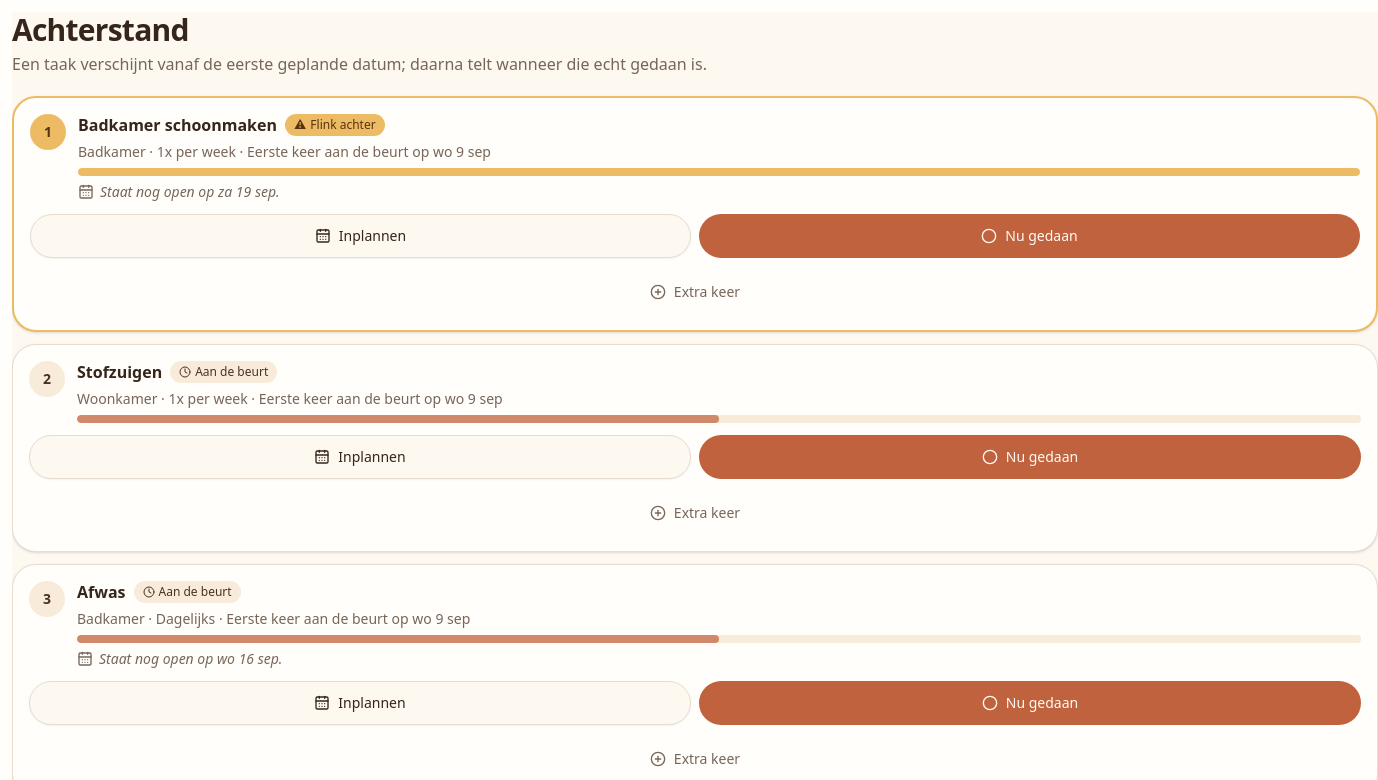
DuePage › plans a task on a chosen day and person
Click the button with aria-label "Stofzuigen inplannen" at (360, 457), box top-left (29, 435), bottom-right (691, 479)
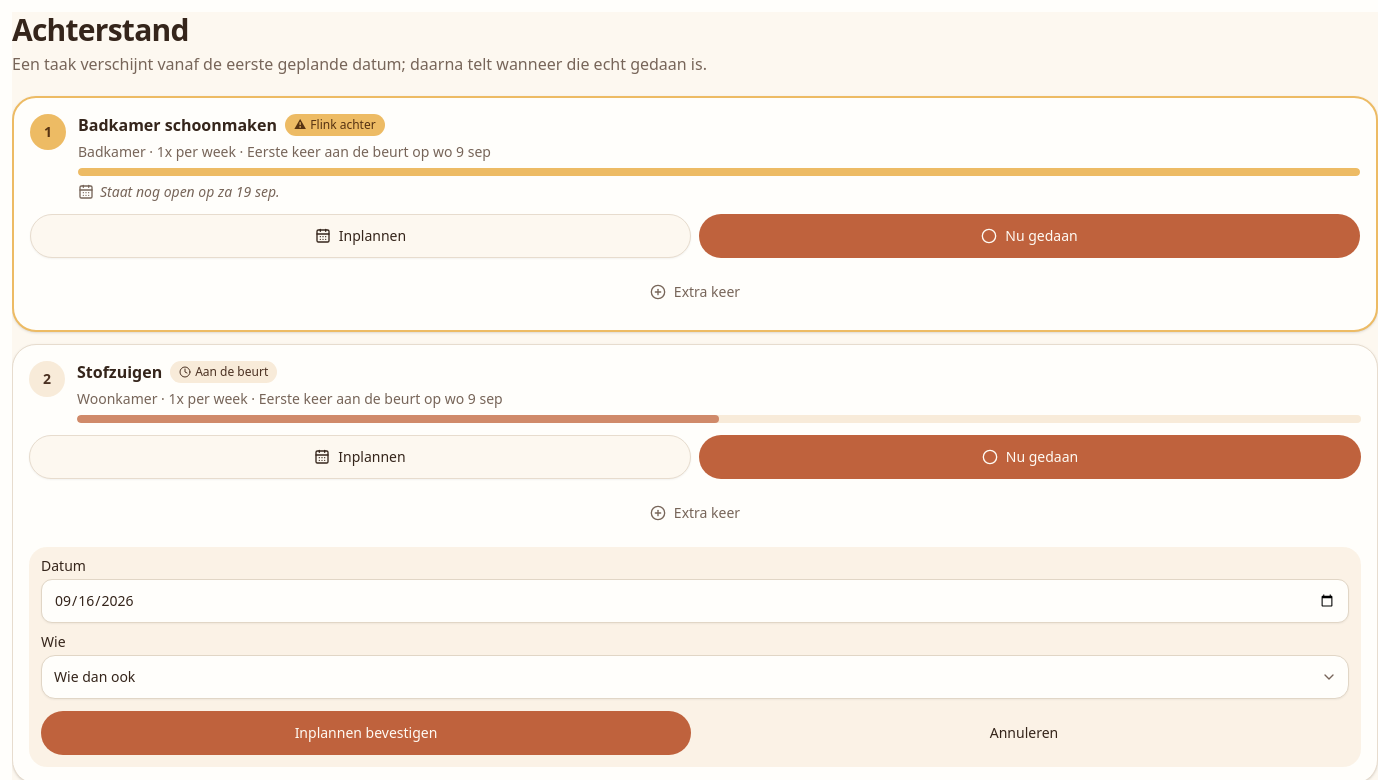
Type "2026-09-20" into the date field labelled "Datum" at (695, 601), box top-left (41, 579), bottom-right (1349, 623)
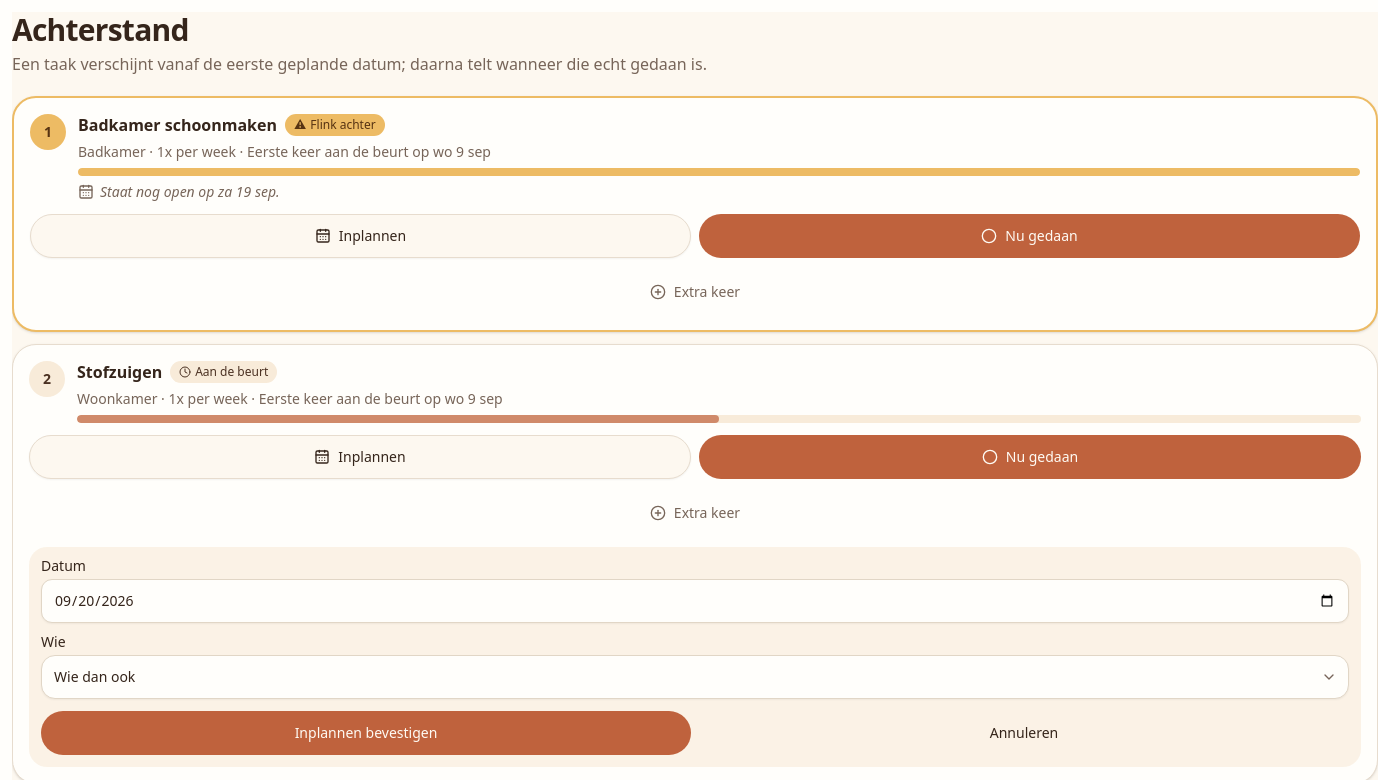
Select "Bram de Vries" in the dropdown labelled "Wie" at (695, 677), box top-left (41, 655), bottom-right (1349, 699)
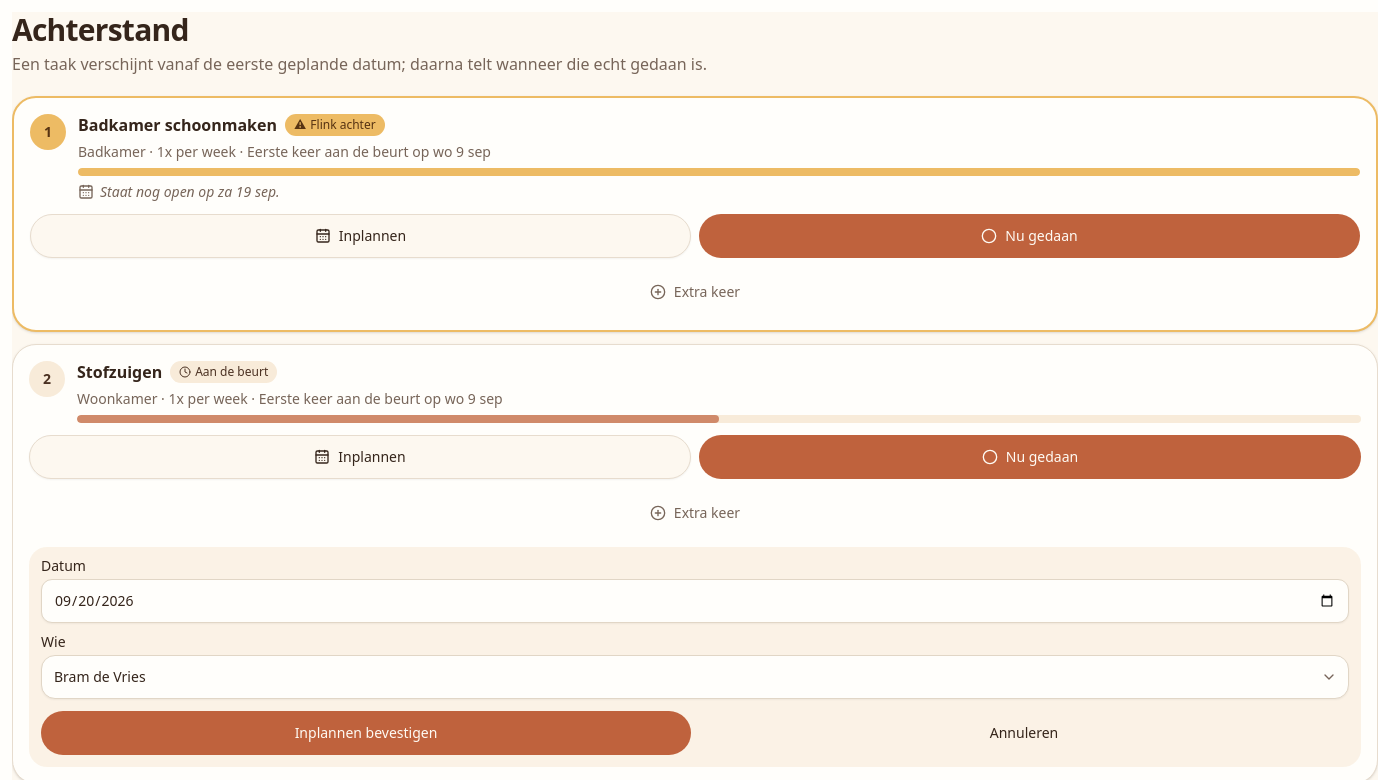
Click the button "Inplannen bevestigen" at (366, 733), box top-left (41, 711), bottom-right (691, 755)
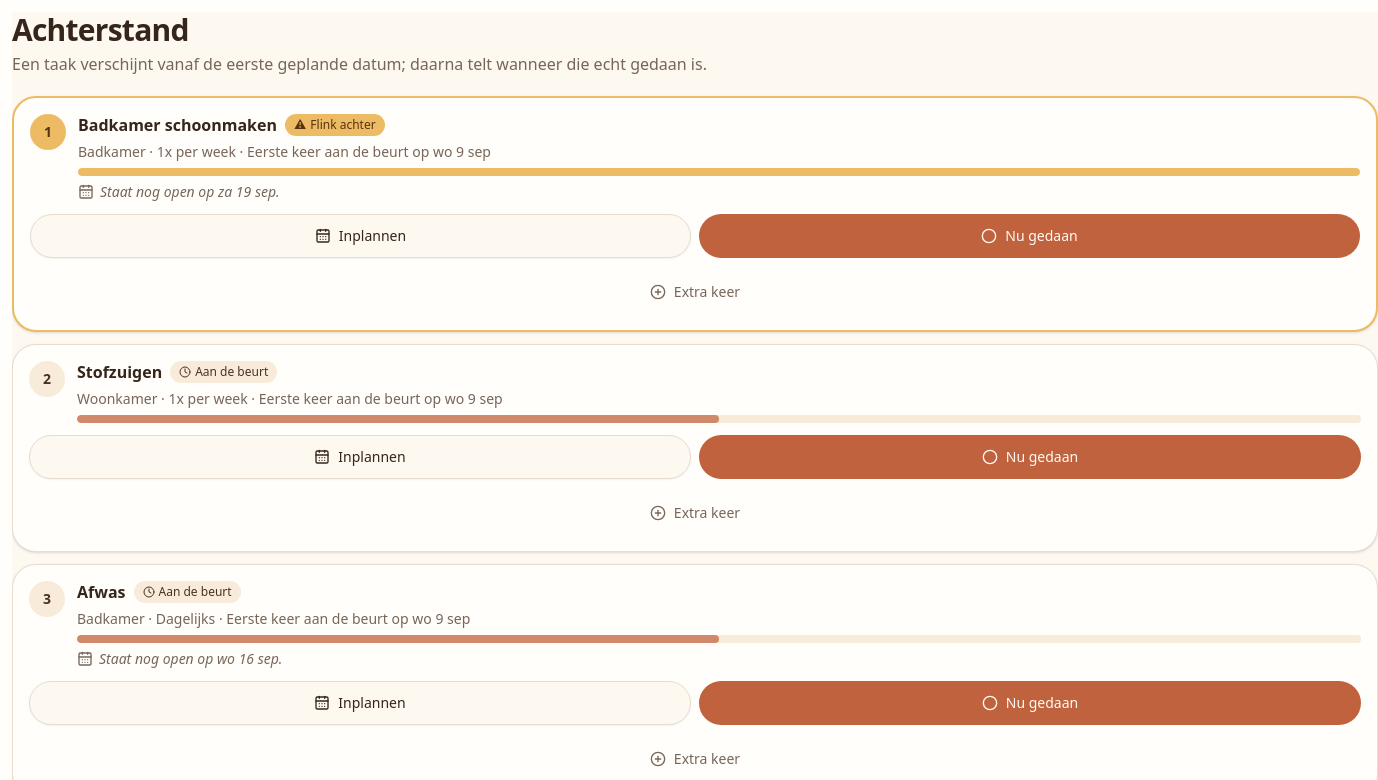
Result: the form is gone
